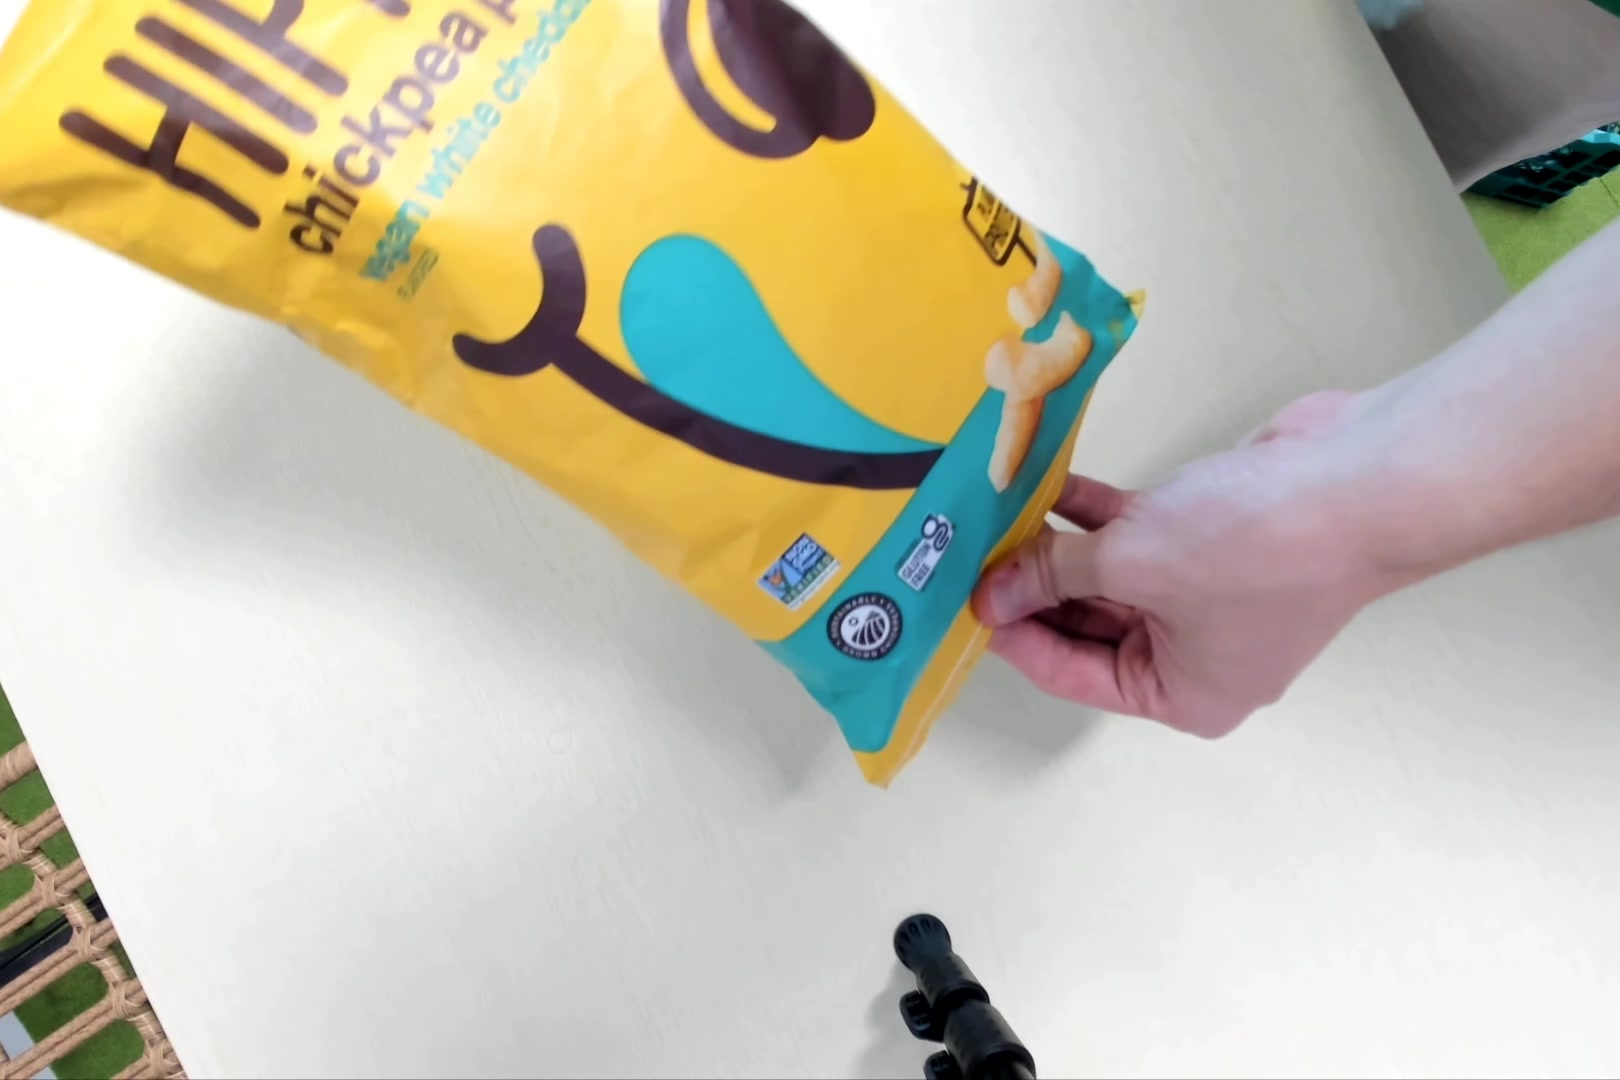PotatoChipsKeropok_100-199g_NonHalal_NonHealthy: (6, 1, 1139, 796)
